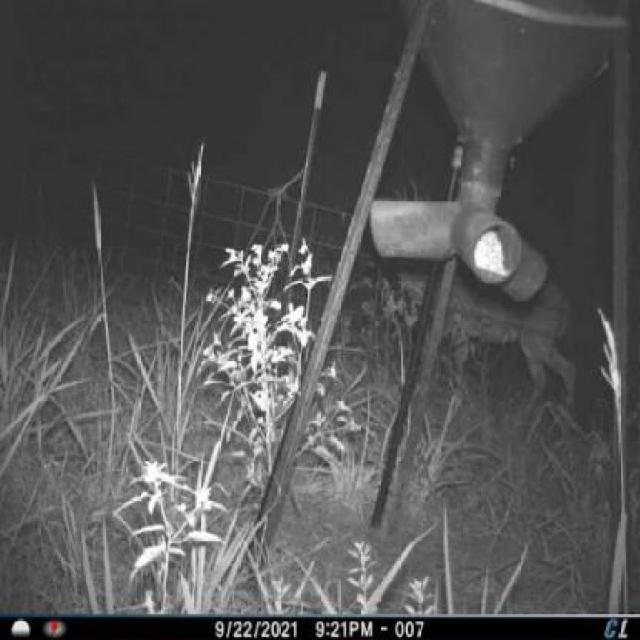Deer: (372, 180, 578, 392)
